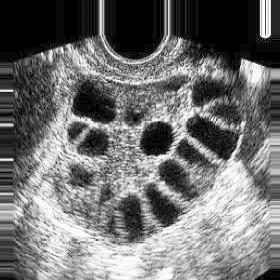PCOS: (184, 115, 240, 160), (68, 84, 122, 126), (147, 177, 183, 229), (186, 73, 236, 108), (119, 193, 148, 245), (160, 156, 190, 205), (176, 138, 212, 174), (140, 123, 172, 160), (78, 123, 109, 161), (69, 163, 99, 190), (213, 99, 241, 127), (124, 104, 152, 130), (162, 71, 190, 97), (65, 118, 89, 142), (98, 179, 114, 205)
